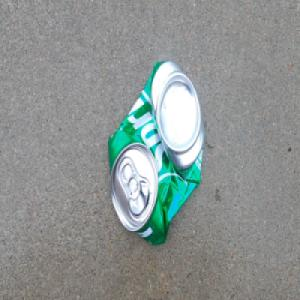SodaCan: (105, 57, 206, 247)
